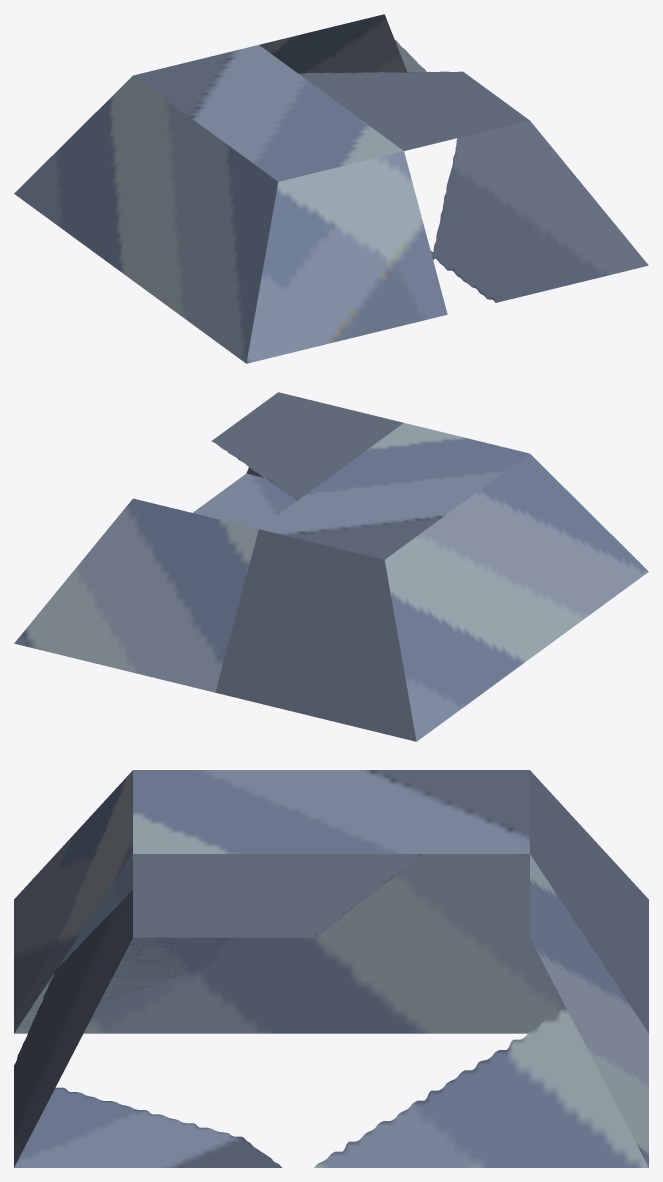
File: ss3_carport_skylight.obj
3 views of the same model, one above another, from view 1: azimuth 30°, elevation 25°; view 2: azimuth 150°, elevation 25°; view 3: azimuth 270°, elevation 25° (orthographic). The views are drawn at different scales.
Parts seen in each view (by area): view 1: cuboid_selection; view 2: cuboid_selection; view 3: cuboid_selection.
Part boxes in pixels (x1=…): cuboid_selection: x1=14, y1=14, x2=648, y2=363; cuboid_selection: x1=14, y1=392, x2=648, y2=741; cuboid_selection: x1=14, y1=770, x2=648, y2=1167.
Size of the model in its own units: 1 by 0.3125 by 1.
